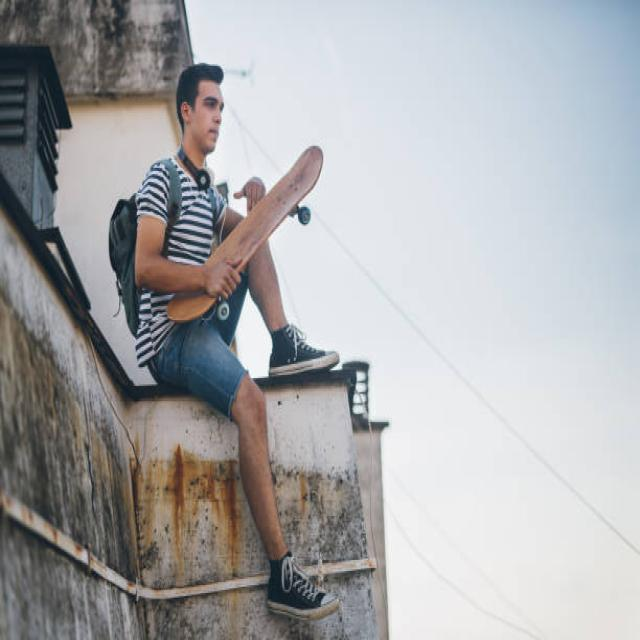sit: (110, 45, 332, 600)
